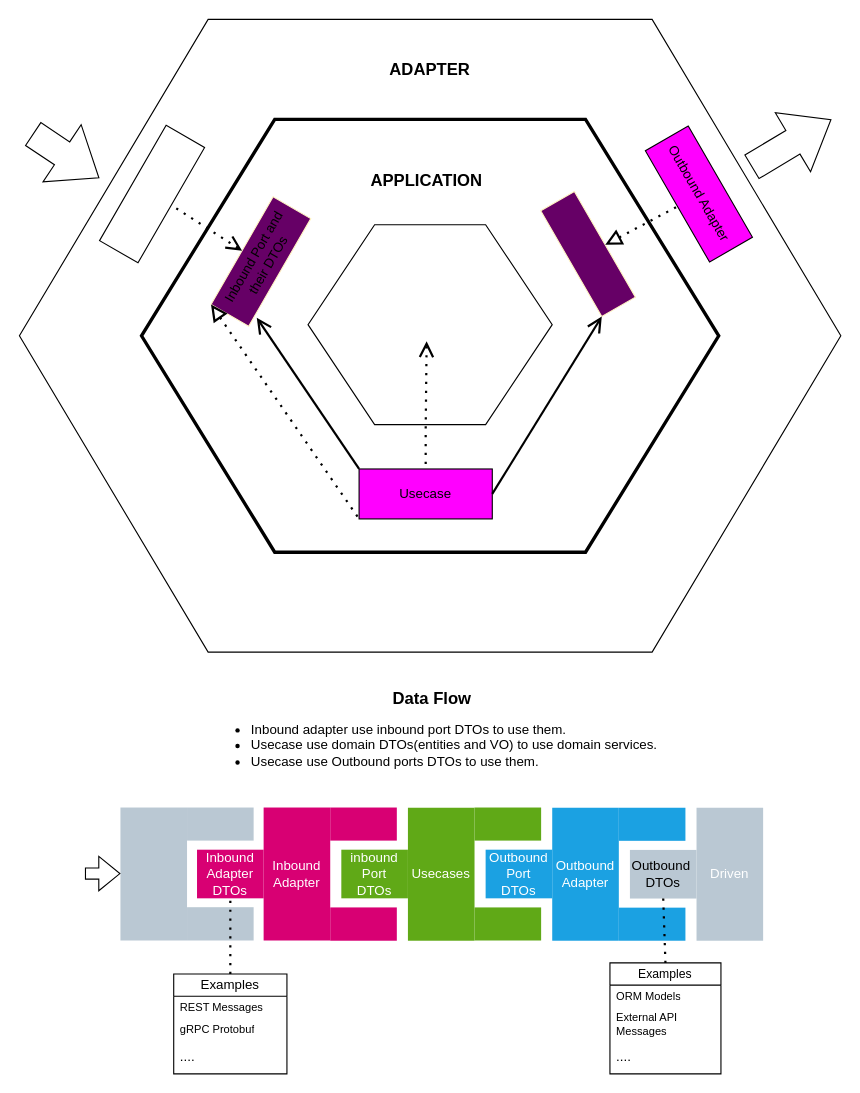
Some shapes in this 860 by 1093 pixel diagram are drawn without their labels. Each missing label, with the centre of its shape:
"DOMAIN" belongs at point (429, 324).
"Driver" belongs at point (153, 873).
"Inbound Adapter and DTOs" belongs at point (151, 193).
"Outbound Port and their DTOs" belongs at point (587, 253).
